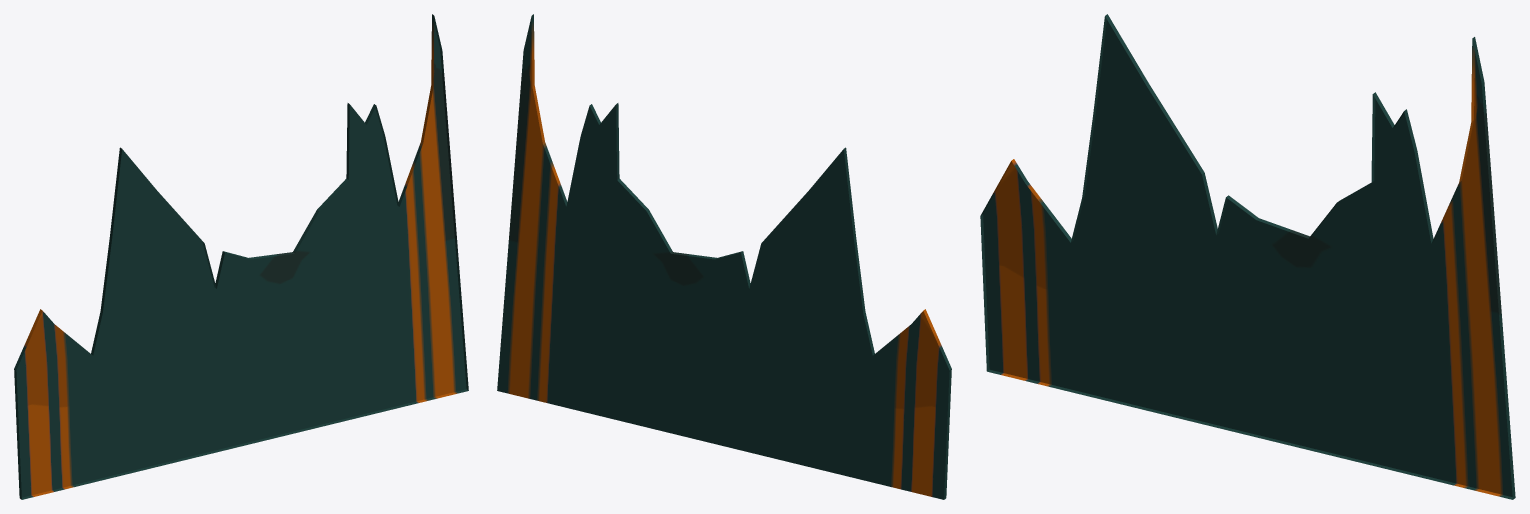
The model's file is Carpet 01 End 01.FBX.
The picture shows the model from 3 angles, left to right: view 1: azimuth 30°, elevation 25°; view 2: azimuth 150°, elevation 25°; view 3: azimuth 330°, elevation 25°; orthographic projection. The views are drawn at different scales.
Parts seen in each view (by area): view 1: Carpet 01 End 01; view 2: Carpet 01 End 01; view 3: Carpet 01 End 01.
Part boxes in pixels (x1,y1,x2,y2): Carpet 01 End 01: (14,14,468,499); Carpet 01 End 01: (497,14,951,499); Carpet 01 End 01: (980,14,1515,499).
Size of the model in its own units: 169 by 137 by 1.5.
